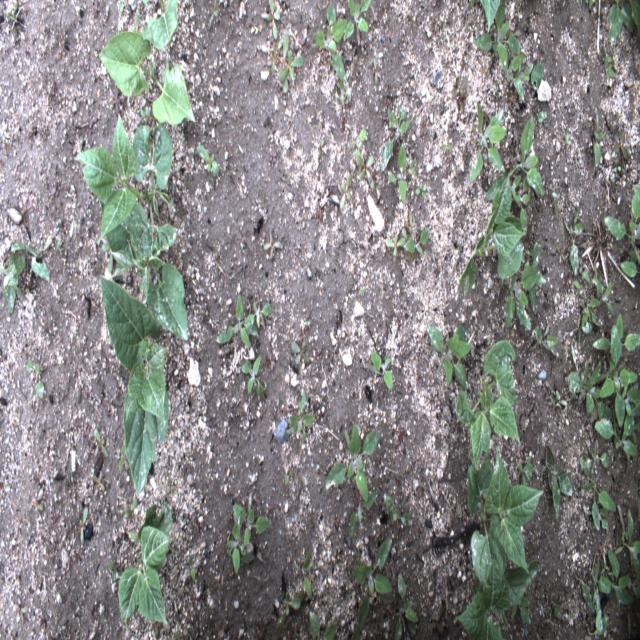crop: (71, 110, 189, 340), (100, 274, 171, 500), (467, 442, 546, 599), (98, 30, 195, 126), (456, 339, 522, 476), (456, 173, 526, 286), (118, 502, 172, 636), (454, 560, 544, 640), (142, 0, 178, 50), (480, 0, 501, 34)
weed: (510, 114, 546, 238), (326, 423, 380, 503), (599, 324, 639, 428), (352, 538, 394, 633), (0, 242, 51, 316), (468, 100, 508, 182), (427, 322, 473, 392), (473, 0, 519, 69), (311, 2, 347, 83), (604, 184, 640, 265), (592, 310, 640, 370), (566, 359, 612, 421), (580, 457, 617, 532), (505, 266, 546, 332), (214, 290, 258, 346), (545, 444, 575, 520), (381, 104, 413, 174), (386, 570, 418, 639), (270, 31, 303, 94), (612, 507, 640, 581), (598, 549, 634, 606), (387, 142, 418, 204), (231, 505, 269, 549), (286, 387, 315, 444), (594, 418, 636, 457), (562, 208, 585, 276), (226, 519, 252, 574), (609, 0, 639, 44), (343, 0, 371, 43), (277, 588, 304, 629), (293, 546, 313, 600), (242, 355, 267, 398), (504, 52, 525, 102), (591, 277, 615, 319), (309, 608, 340, 639), (370, 349, 394, 389), (245, 300, 272, 330), (593, 106, 606, 167), (260, 0, 279, 40), (197, 144, 219, 177), (403, 230, 430, 255), (356, 155, 374, 190), (582, 298, 600, 332), (384, 232, 406, 259)
